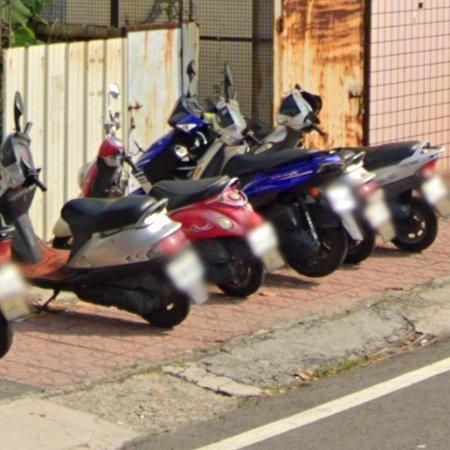motorcycles: (82, 113, 278, 297), (12, 196, 207, 328), (218, 149, 395, 276), (346, 140, 450, 252), (137, 95, 218, 184), (255, 86, 323, 153), (0, 130, 34, 198), (403, 279, 450, 328)
